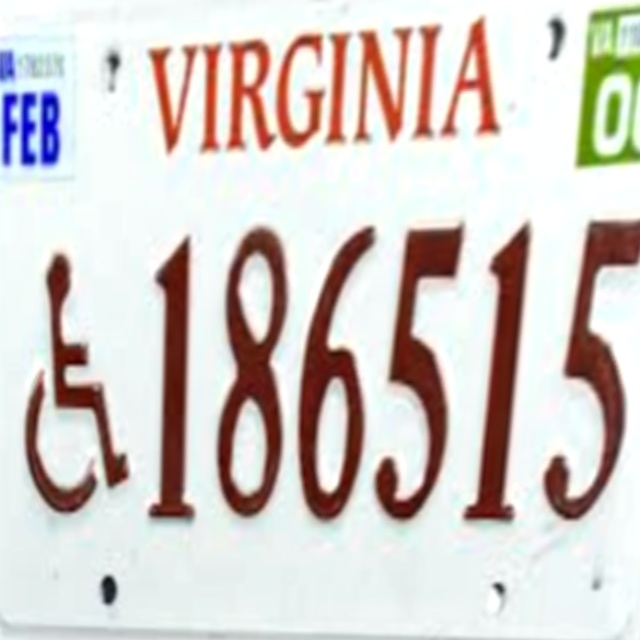ISA: (22, 235, 134, 517)
